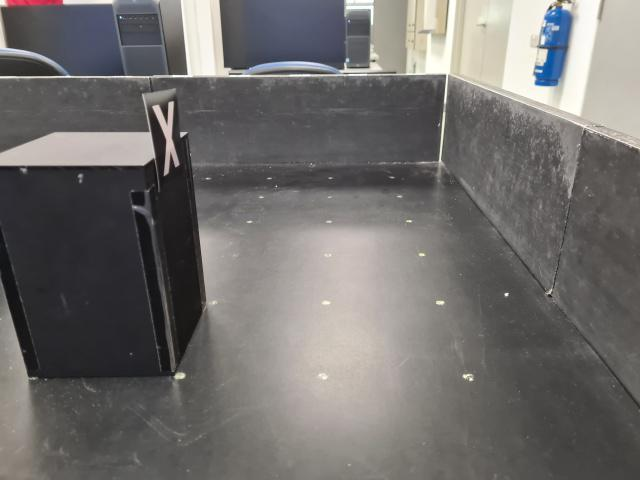x: (141, 87, 188, 192)
